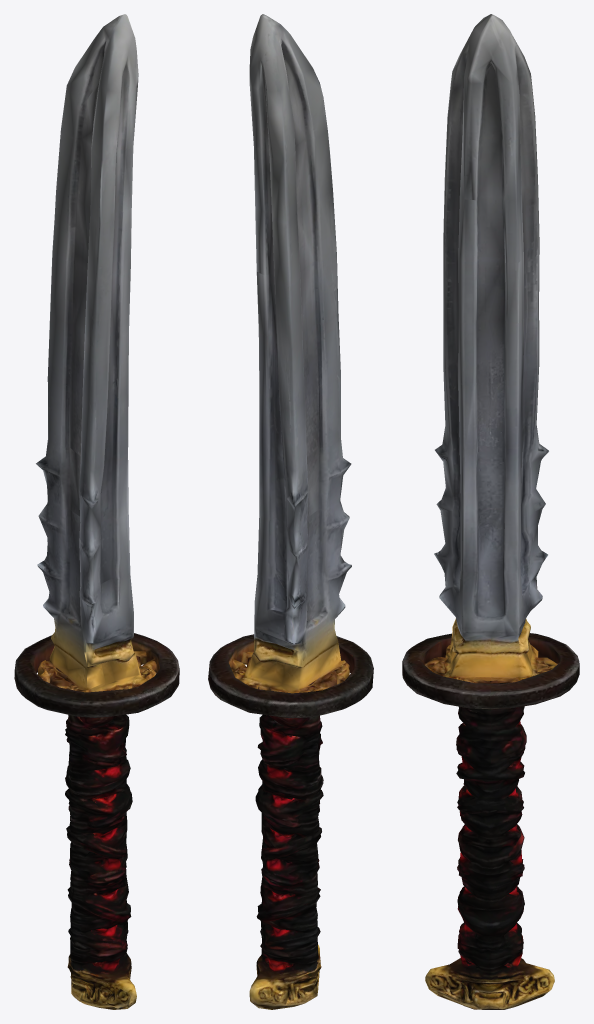
File: katana.glb
3 views of the same model, side by side, from view 1: azimuth 30°, elevation 25°; view 2: azimuth 150°, elevation 25°; view 3: azimuth 270°, elevation 25° (orthographic). The views are drawn at different scales.
Visible parts, largest first — view 1: katana; view 2: katana; view 3: katana.
Part boxes in pixels (x1,y1,x2,y2): katana: (14,14,179,1009); katana: (208,14,373,1009); katana: (402,14,579,1009).
Bounding box in the file's own units: 0.1516 × 1 × 0.1606.
Materials: 1 (1 with a texture image).
